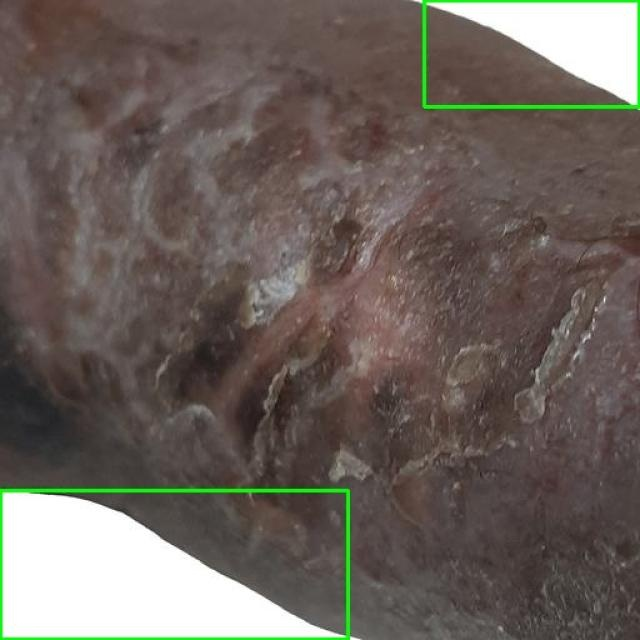Eczema: (0, 490, 348, 639), (424, 0, 639, 106)
